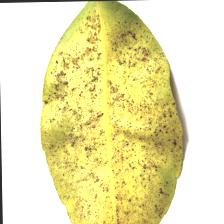canker: (58, 64, 166, 164)
